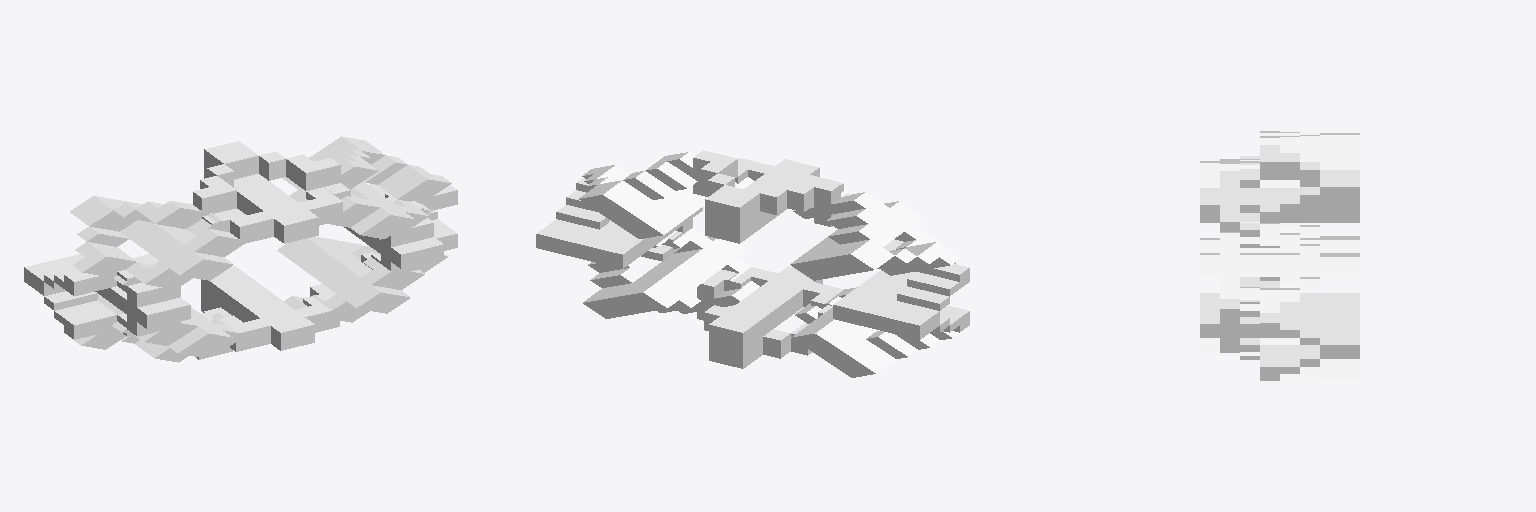
File: GatlingTopMEsh.obj
3 renders of one model, left to right at view 1: azimuth 30°, elevation 25°; view 2: azimuth 150°, elevation 25°; view 3: azimuth 270°, elevation 25°, orthographic.
Parts seen in each view (by area): view 1: GatlingTopMEsh; view 2: GatlingTopMEsh; view 3: GatlingTopMEsh.
Boxes of the visible parts, <box> form: GatlingTopMEsh: <box>24,136,457,362</box>; GatlingTopMEsh: <box>536,150,969,377</box>; GatlingTopMEsh: <box>1200,131,1359,382</box>.
Size of the model in its own units: 2.22 by 0.8878 by 0.8.